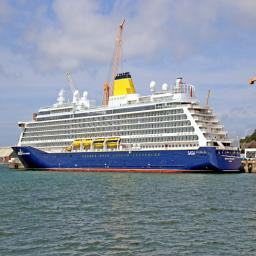cruises: (14, 71, 245, 174)
